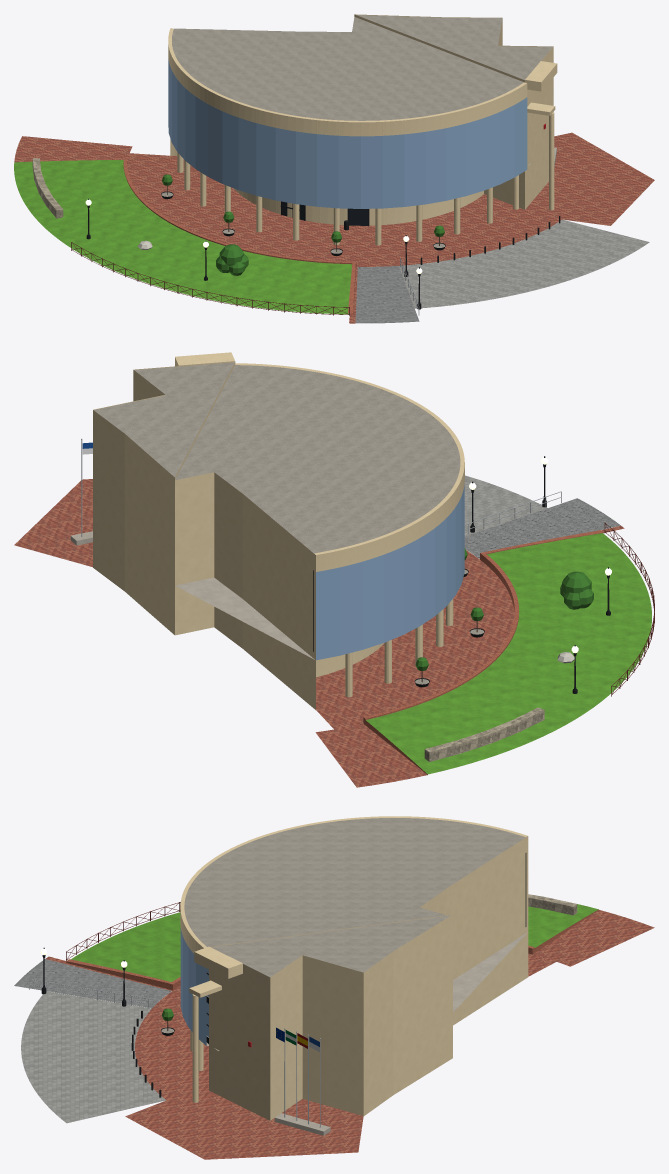
File: ayuntamiento.glb
3 views of the same model, one above another, from view 1: azimuth 30°, elevation 25°; view 2: azimuth 150°, elevation 25°; view 3: azimuth 270°, elevation 25° (orthographic). The views are drawn at different scales.
Visible parts, largest first — view 1: Ayto_volumen_lejos, Entorno_adoquin, Entorno_cesped, Entorno_losas, Ayto_cornisa, Ayto_cubierta, Entorno_rampa, Ayto_columnas, Ayto_planta_baja, Ayto_fachada, Ayto_estructura, Entorno_valla (+6 smaller); view 2: Ayto_volumen_lejos, Entorno_cesped, Entorno_adoquin, Ayto_fachada, Ayto_cubierta, Entorno_rampa, Ayto_cornisa, Entorno_losas, Entorno_bordillo, Entorno_muro_piedra, Ayto_columnas, Entorno_jardin (+5 smaller); view 3: Ayto_volumen_lejos, Ayto_fachada, Entorno_adoquin, Entorno_losas, Ayto_cubierta, Entorno_cesped, Entorno_rampa, Ayto_estructura, Ayto_cornisa, Entorno_mastiles, Entorno_bordillo, Entorno_muro_piedra (+1 smaller).
Boxes of the visible parts, box(x1,y1,x2,y2) form: Ayto_volumen_lejos: box(168, 15, 553, 224); Entorno_adoquin: box(14, 132, 654, 323); Entorno_cesped: box(14, 160, 352, 314); Entorno_losas: box(399, 219, 649, 308); Ayto_cornisa: box(168, 28, 526, 136); Ayto_cubierta: box(354, 14, 553, 80); Entorno_rampa: box(355, 265, 419, 323); Ayto_columnas: box(177, 152, 518, 245); Ayto_planta_baja: box(234, 188, 483, 225); Ayto_fachada: box(170, 23, 546, 209); Ayto_estructura: box(525, 61, 557, 210); Entorno_valla: box(71, 242, 349, 315); Ayto_volumen_lejos: box(96, 362, 464, 674); Entorno_cesped: box(365, 533, 651, 774); Entorno_adoquin: box(14, 479, 624, 787); Ayto_fachada: box(93, 370, 315, 709); Ayto_cubierta: box(93, 361, 234, 477); Entorno_rampa: box(464, 498, 620, 558); Ayto_cornisa: box(235, 363, 464, 571); Entorno_losas: box(464, 475, 547, 536); Entorno_bordillo: box(363, 530, 603, 724); Entorno_muro_piedra: box(424, 707, 544, 761); Ayto_columnas: box(345, 598, 453, 697); Entorno_jardin: box(557, 571, 593, 663); Ayto_volumen_lejos: box(180, 818, 527, 1120); Ayto_fachada: box(209, 836, 528, 1120); Entorno_adoquin: box(45, 910, 654, 1159); Entorno_losas: box(21, 991, 165, 1123); Ayto_cubierta: box(210, 914, 452, 977); Entorno_cesped: box(71, 904, 598, 981); Entorno_rampa: box(14, 959, 171, 1008); Ayto_estructura: box(189, 946, 242, 1102); Ayto_cornisa: box(180, 816, 527, 953); Entorno_mastiles: box(274, 1027, 330, 1135); Entorno_bordillo: box(66, 945, 534, 990); Entorno_muro_piedra: box(528, 894, 577, 915).
Bounding box in the file's own units: 57.27 × 14 × 56.31.
Materials: 11 (11 with a texture image).
